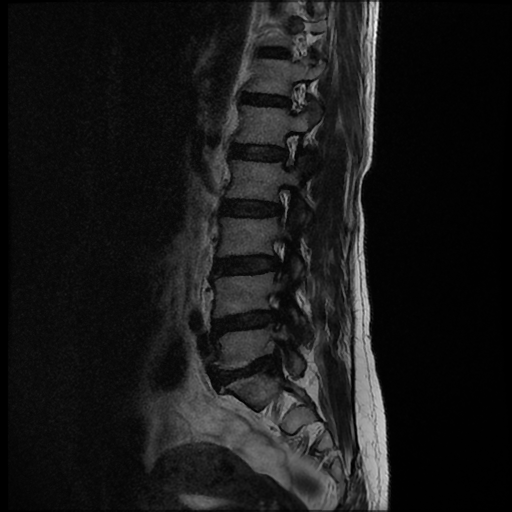LFS0: (267, 176, 300, 231), (273, 123, 306, 175)
